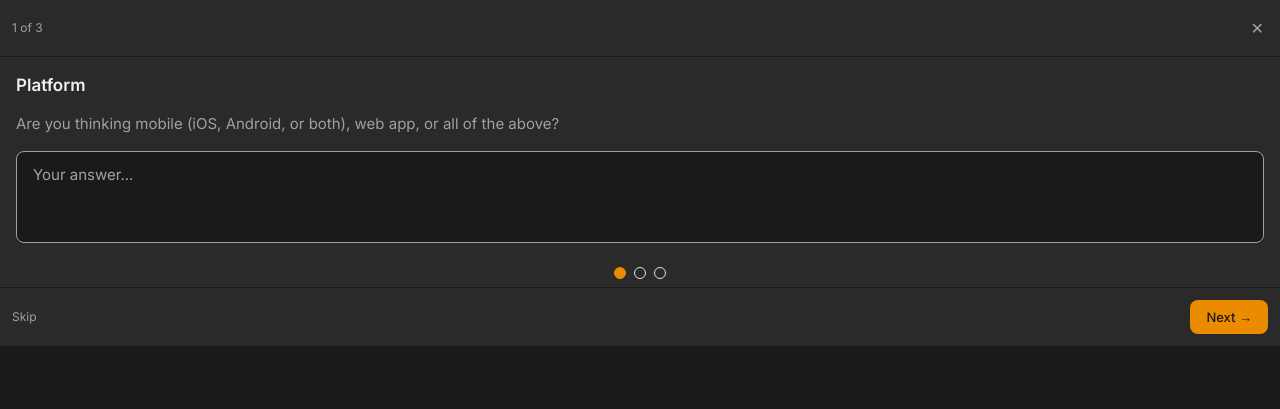
Scenario: QuestionCardStack › marks question as skipped when Skip is clicked
This screenshot has width=1280, height=409.
Click the button with aria-label "skip question" at coordinates (24, 317), box top-left (12, 309), bottom-right (36, 325)
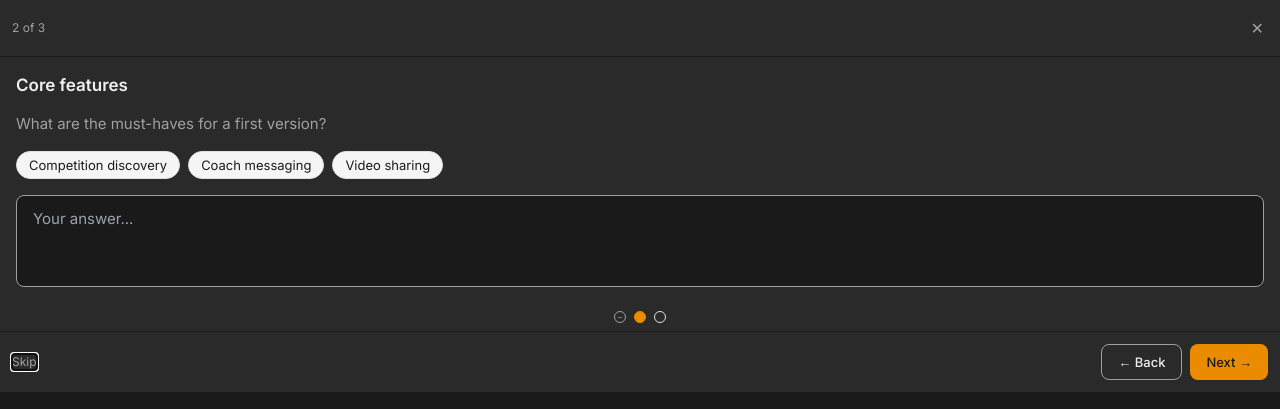
Expected: the heading "Core features" is shown, top-left (16, 75), bottom-right (128, 95)
